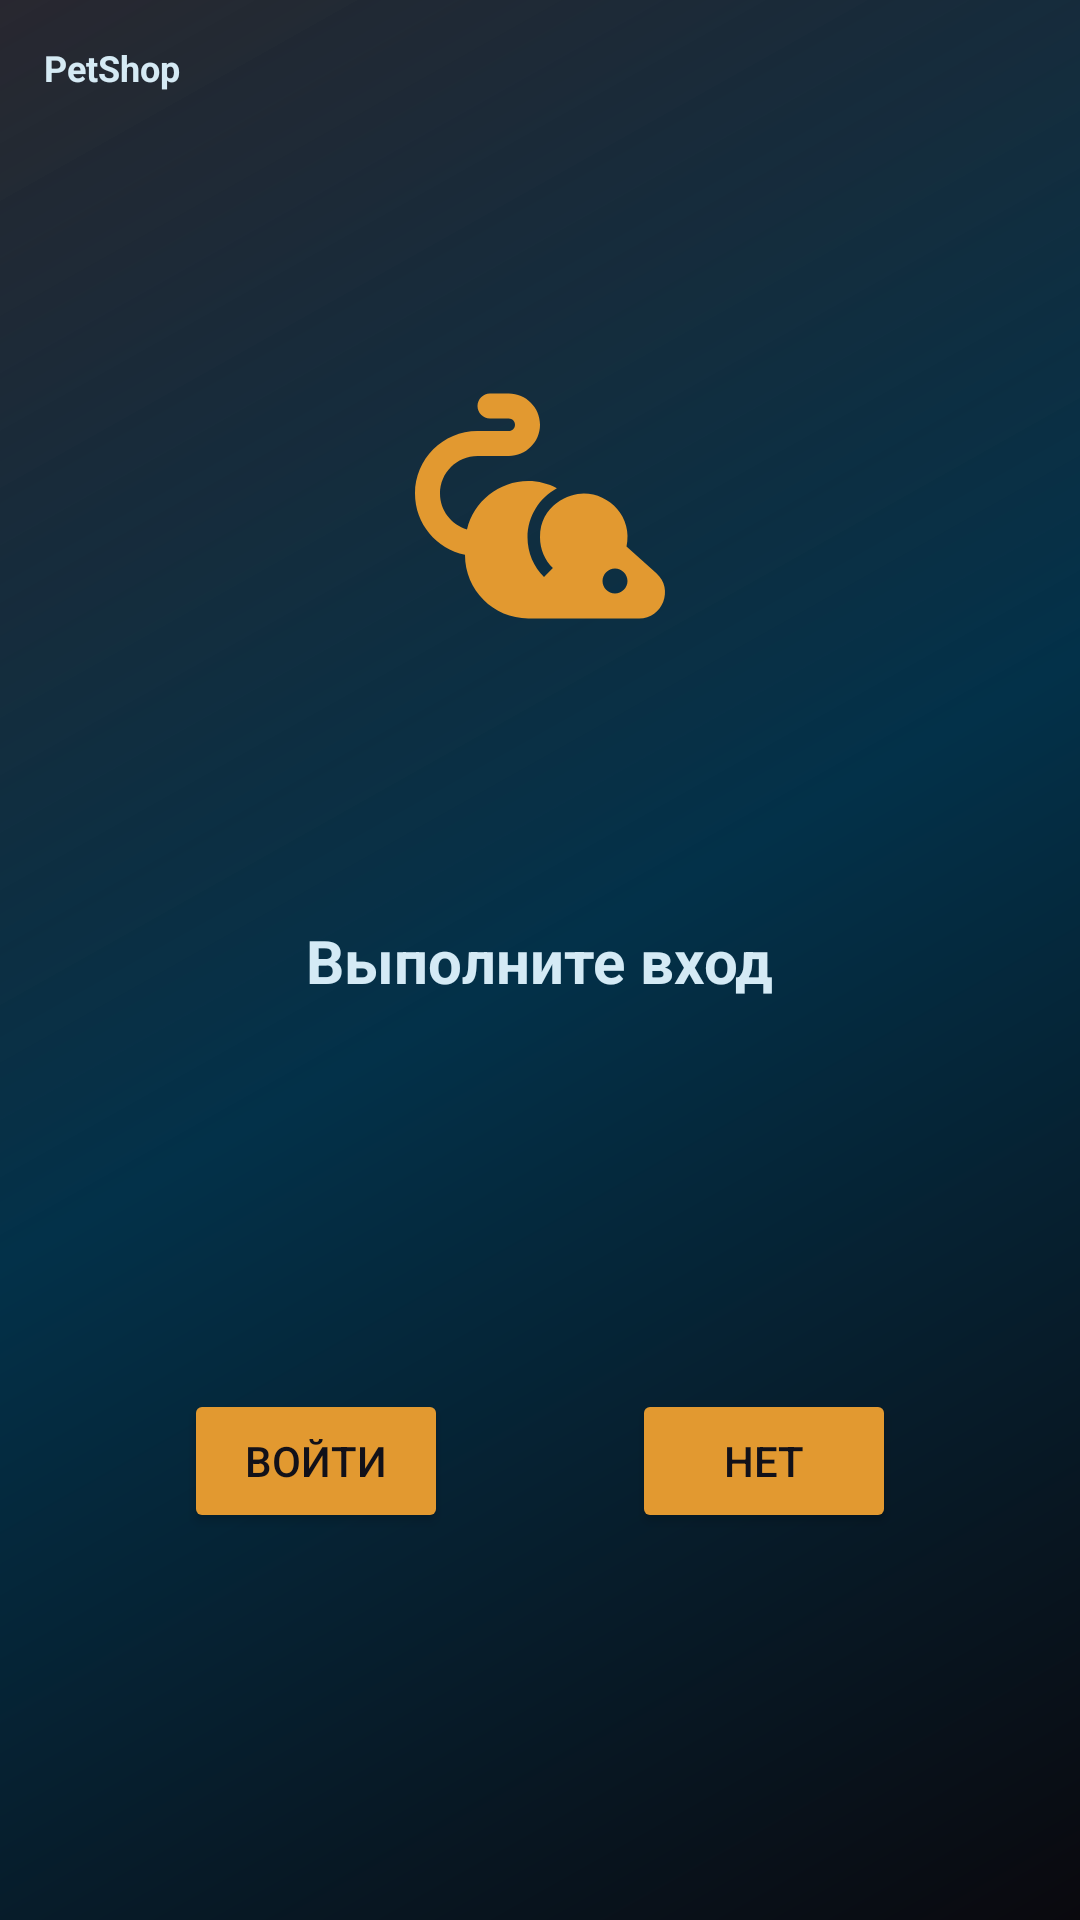

Icons on this 1080x1920 Android screen, each with the point to tap as [x,y]:
pest control: [540,506]
